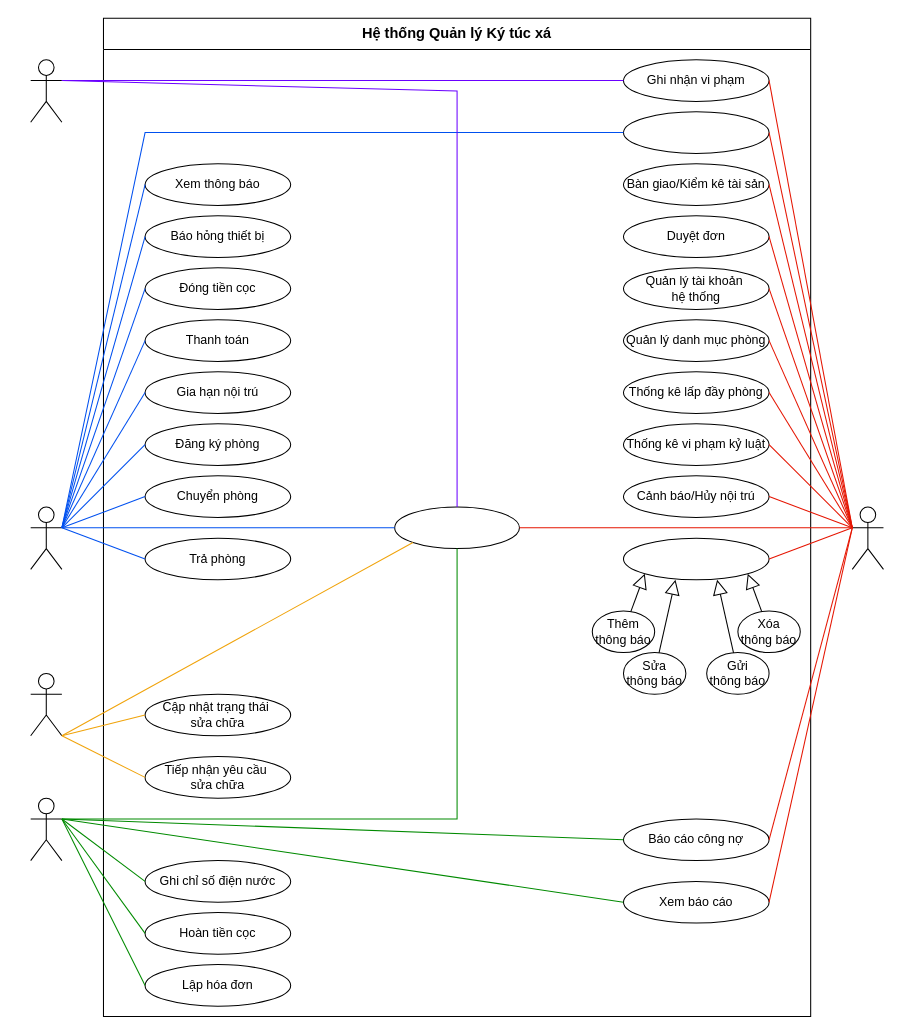
Image size: 903x1035. Some labels were removed from this diagram. Here are the shapes that lost their labels. From the top down, the centre of each, then its label:
At pixel 46 90: "Bảo vệ".
At pixel 695 132: "Tra cứu điểm rèn luyện".
At pixel 46 537: "Sinh viên".
At pixel 456 527: "Quản lý tài khoản cá nhân".
At pixel 867 537: "Admin".
At pixel 695 558: "Quản lý thông báo".
At pixel 46 704: "Nhân viên kỹ thuật".
At pixel 46 829: "Kế toán".
